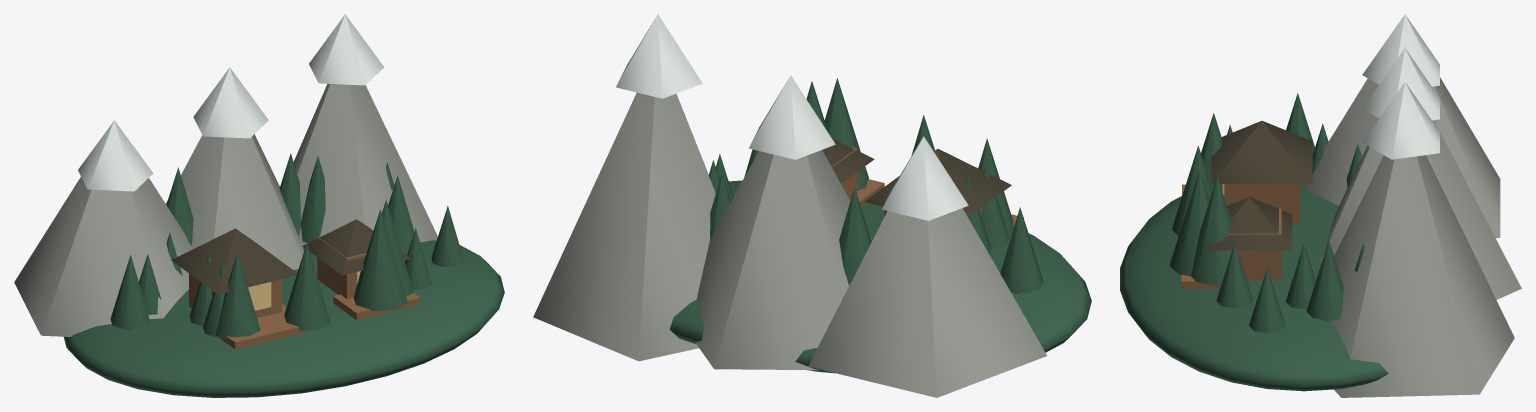
File: property.glb
3 views of the same model, side by side, from view 1: azimuth 30°, elevation 25°; view 2: azimuth 150°, elevation 25°; view 3: azimuth 270°, elevation 25° (orthographic). The views are drawn at different scales.
Bounding box in the file's own units: 6.13 × 3.79 × 4.78.
